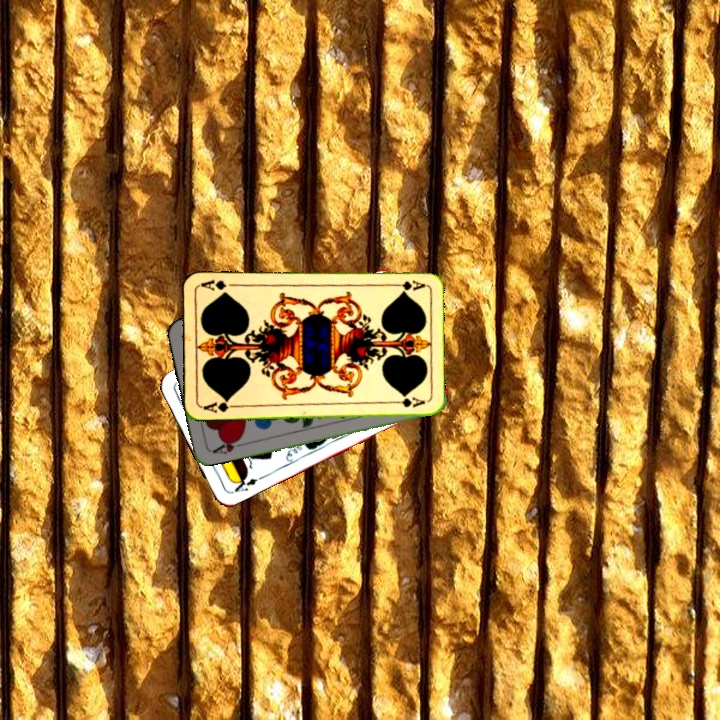EA: (229, 472, 260, 495)
GA: (199, 395, 240, 415), (387, 276, 427, 293)
HA: (209, 434, 248, 457)
